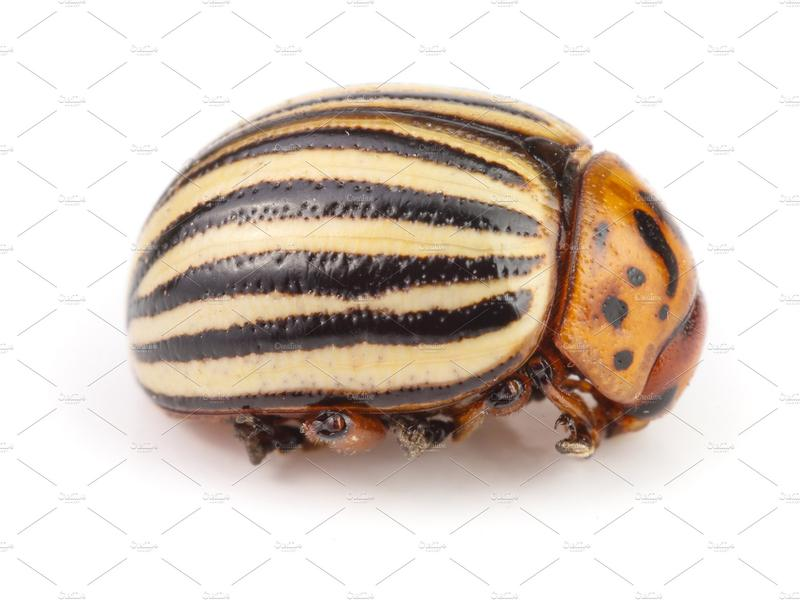hrosc: (108, 75, 708, 468)
